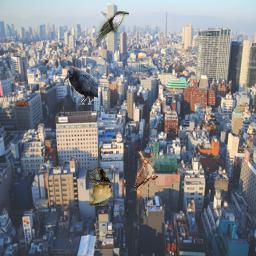Crow: (63, 65, 98, 105)
Cuckoo: (90, 11, 129, 51), (89, 166, 113, 206)
Sparrow: (135, 151, 158, 191)
